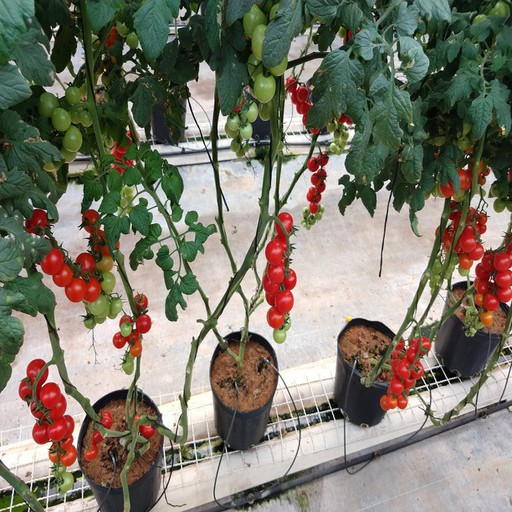green tomato bunch: (222, 1, 288, 148), (24, 82, 94, 173), (325, 118, 350, 157)
mixed tomato bunch: (79, 209, 122, 323)
red tomato bunch: (30, 209, 102, 302), (18, 358, 79, 464), (264, 212, 296, 345), (379, 336, 432, 413), (434, 198, 486, 267), (476, 249, 511, 326), (284, 76, 325, 134), (110, 124, 139, 181), (304, 152, 330, 212)
